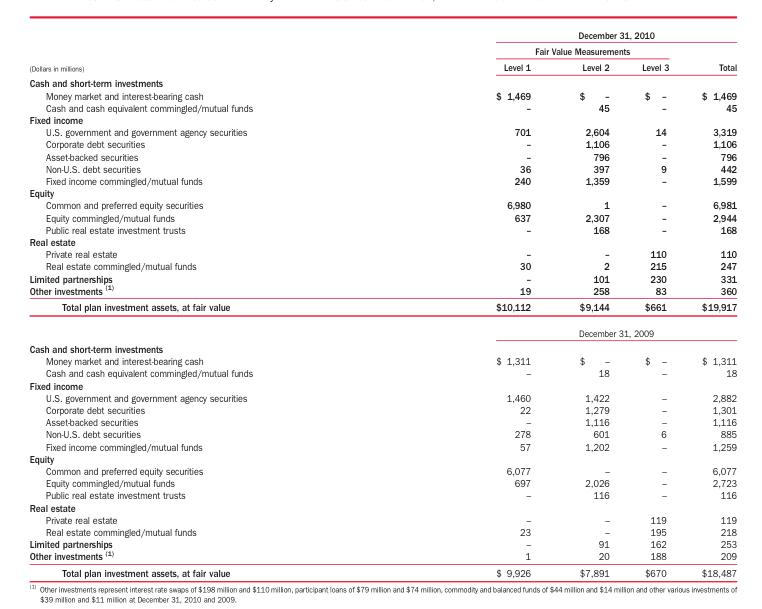table: (28, 28, 736, 578)
table column: (28, 28, 373, 578), (373, 28, 554, 578), (554, 28, 625, 578), (625, 28, 684, 578), (684, 28, 736, 578)
table column header: (28, 28, 736, 74)
table projected row header: (28, 74, 736, 89), (28, 340, 736, 354), (28, 186, 736, 199), (28, 378, 736, 391), (28, 500, 736, 513), (28, 113, 736, 125), (28, 235, 736, 247), (28, 452, 736, 464)
table row: (28, 298, 736, 319), (28, 319, 736, 340), (28, 42, 736, 58), (28, 58, 736, 74), (28, 74, 736, 89), (28, 283, 736, 298), (28, 549, 736, 564), (28, 28, 736, 42), (28, 340, 736, 354), (28, 564, 736, 578), (28, 125, 736, 138), (28, 186, 736, 199), (28, 247, 736, 260), (28, 378, 736, 391), (28, 439, 736, 452), (28, 500, 736, 513), (28, 89, 736, 101), (28, 101, 736, 113), (28, 113, 736, 125), (28, 138, 736, 150), (28, 150, 736, 162), (28, 162, 736, 174), (28, 174, 736, 186), (28, 199, 736, 211), (28, 211, 736, 223), (28, 223, 736, 235), (28, 235, 736, 247), (28, 260, 736, 272), (28, 354, 736, 366), (28, 366, 736, 378), (28, 391, 736, 403), (28, 403, 736, 415), (28, 415, 736, 427), (28, 427, 736, 439), (28, 452, 736, 464), (28, 464, 736, 476), (28, 476, 736, 488), (28, 488, 736, 500), (28, 513, 736, 525), (28, 525, 736, 537), (28, 537, 736, 549), (28, 272, 736, 283)
table spanning cell: (28, 28, 373, 74), (373, 319, 736, 340), (373, 28, 736, 42), (373, 42, 684, 58), (684, 42, 736, 74)
